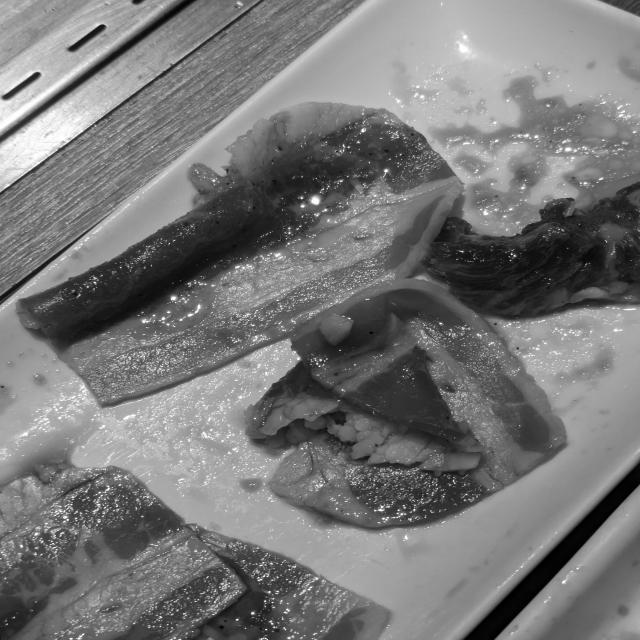NG raw beef,: (0, 96, 492, 419), (238, 280, 607, 538), (0, 451, 249, 640), (421, 174, 638, 325), (179, 529, 418, 640)
